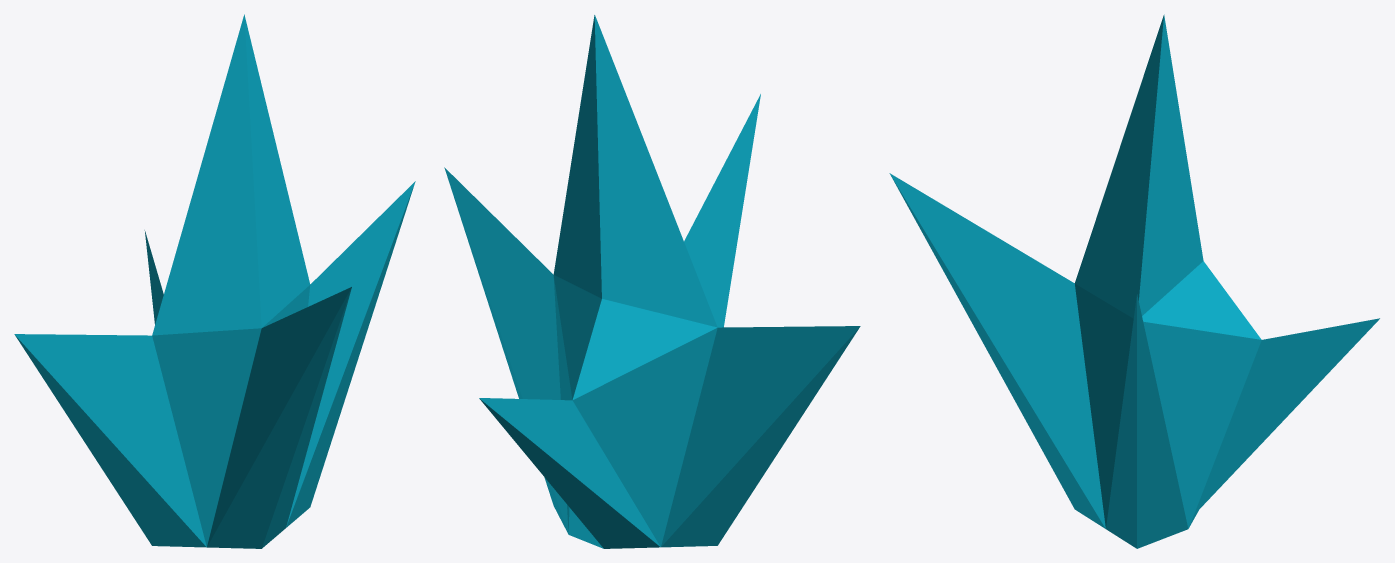
The model's file is cristal.fbx.
The picture shows the model from 3 angles, left to right: view 1: azimuth 30°, elevation 25°; view 2: azimuth 150°, elevation 25°; view 3: azimuth 270°, elevation 25°; orthographic projection. The views are drawn at different scales.
Parts seen in each view (by area): view 1: Cube; view 2: Cube; view 3: Cube.
Boxes of the visible parts, x1,y1,x2,y2 form: Cube: [14, 14, 415, 548]; Cube: [444, 15, 860, 548]; Cube: [889, 14, 1379, 548].
Bounding box in the file's own units: 762 × 900 × 788.
